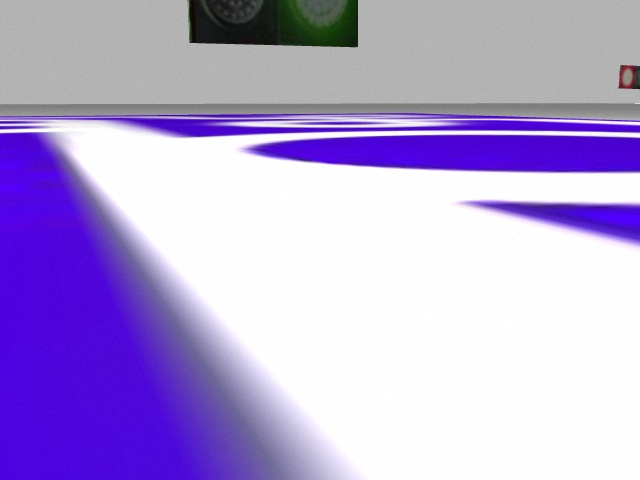green: (276, 1, 361, 45)
